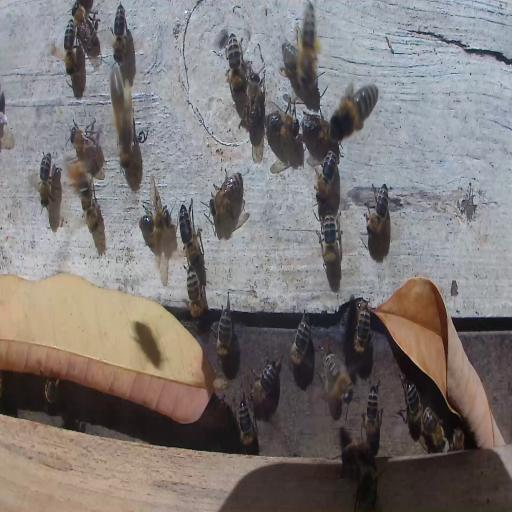nonpollenbee: (253, 348, 284, 408), (210, 169, 243, 224), (324, 352, 355, 410), (179, 200, 202, 272), (242, 67, 263, 141), (318, 210, 340, 275), (364, 181, 390, 236), (234, 395, 258, 452), (399, 379, 422, 438), (290, 311, 312, 370), (72, 5, 99, 52), (315, 150, 339, 202), (82, 178, 104, 232), (267, 106, 301, 140), (340, 437, 375, 470), (352, 298, 372, 355), (364, 383, 382, 446), (422, 406, 446, 452), (226, 35, 244, 95), (70, 122, 99, 158), (186, 268, 206, 319), (138, 207, 172, 237), (303, 110, 331, 145), (355, 467, 377, 510), (281, 40, 298, 89), (216, 304, 232, 356), (112, 3, 126, 62), (66, 162, 90, 195), (39, 150, 52, 208), (64, 18, 76, 74), (44, 375, 58, 406), (450, 426, 465, 452)
pollenbee: (332, 78, 380, 140), (294, 2, 324, 94), (109, 63, 136, 156)
